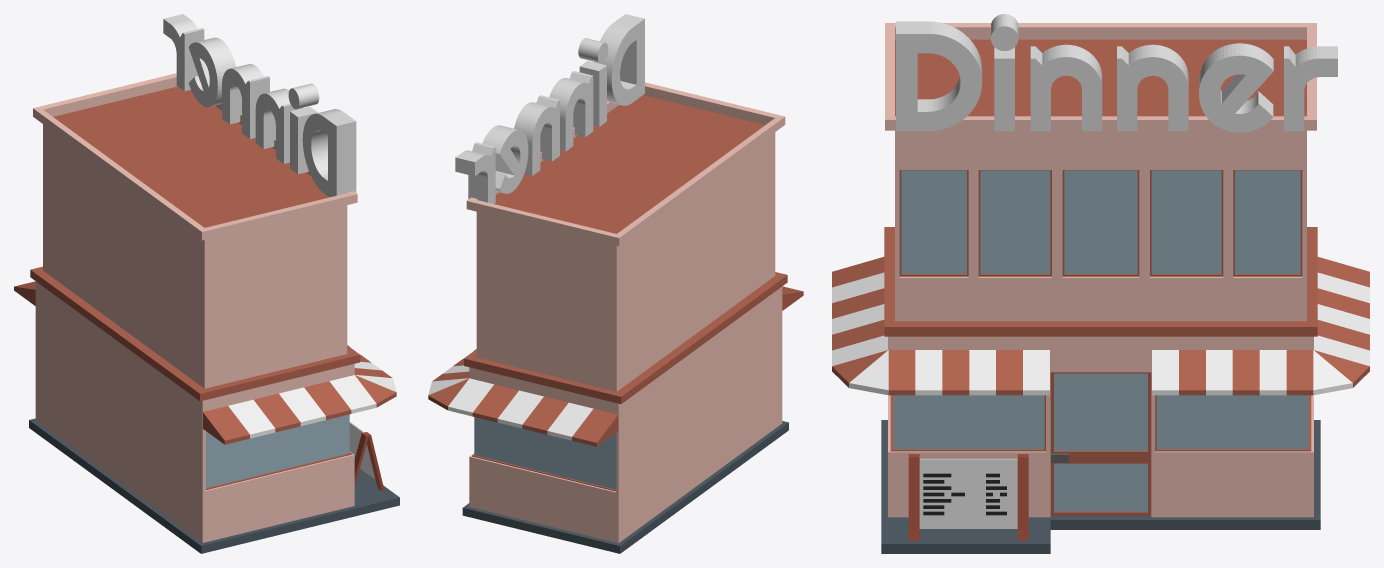
File: food-shop-mp.glb
3 views of the same model, side by side, from view 1: azimuth 30°, elevation 25°; view 2: azimuth 150°, elevation 25°; view 3: azimuth 270°, elevation 25° (orthographic). The views are drawn at different scales.
Parts seen in each view (by area): view 1: food shop-mp; view 2: food shop-mp; view 3: food shop-mp.
Boxes of the visible parts, x1,y1,x2,y2 form: food shop-mp: (14,14,399,553); food shop-mp: (428,14,803,553); food shop-mp: (832,14,1369,553).
Bounding box in the file's own units: 3.47 × 6.59 × 6.37.
Materials: 1 (1 with a texture image).
